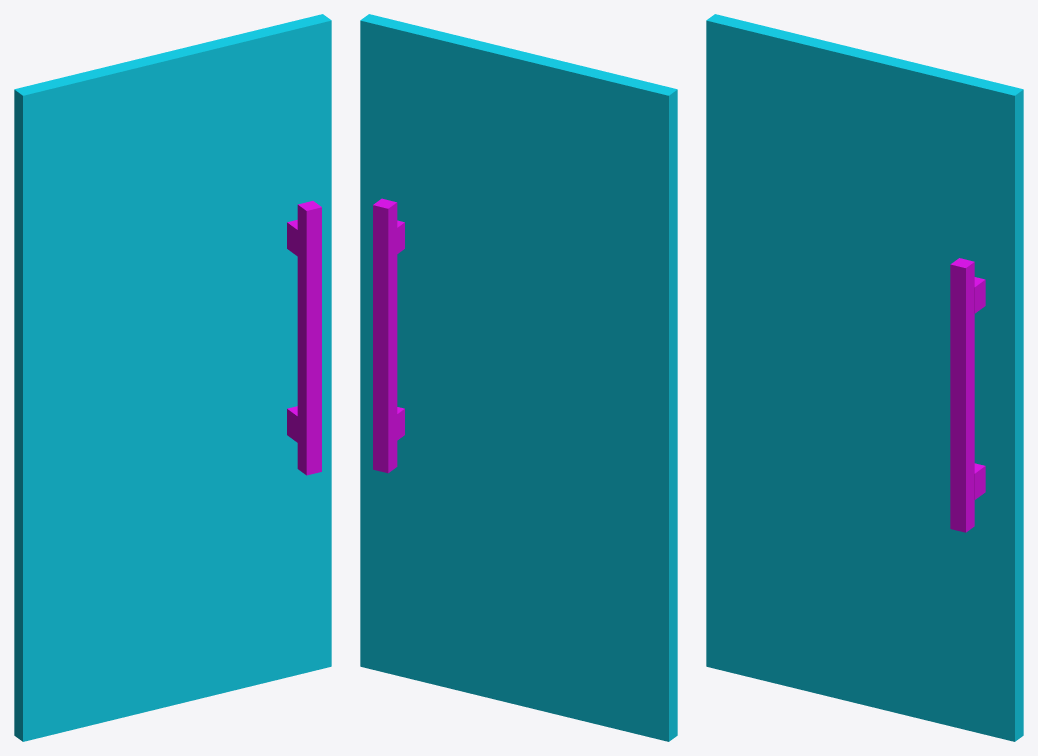
Rendered from Long_Table.gltf.
3 views of the same model, side by side, from view 1: azimuth 30°, elevation 25°; view 2: azimuth 150°, elevation 25°; view 3: azimuth 330°, elevation 25° (orthographic).
Visible parts, largest first — view 1: Sliding_Door; view 2: Sliding_Door; view 3: Sliding_Door.
Boxes of the visible parts, <box> form: Sliding_Door: <box>14,14,331,741</box>; Sliding_Door: <box>360,14,677,741</box>; Sliding_Door: <box>706,14,1023,741</box>.
Size of the model in its own units: 8.68 by 17.35 by 2.2.
